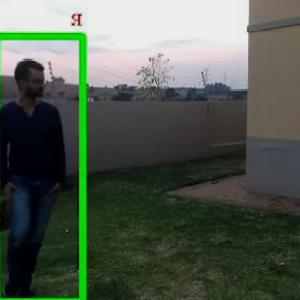follow: (9, 51, 78, 292)
